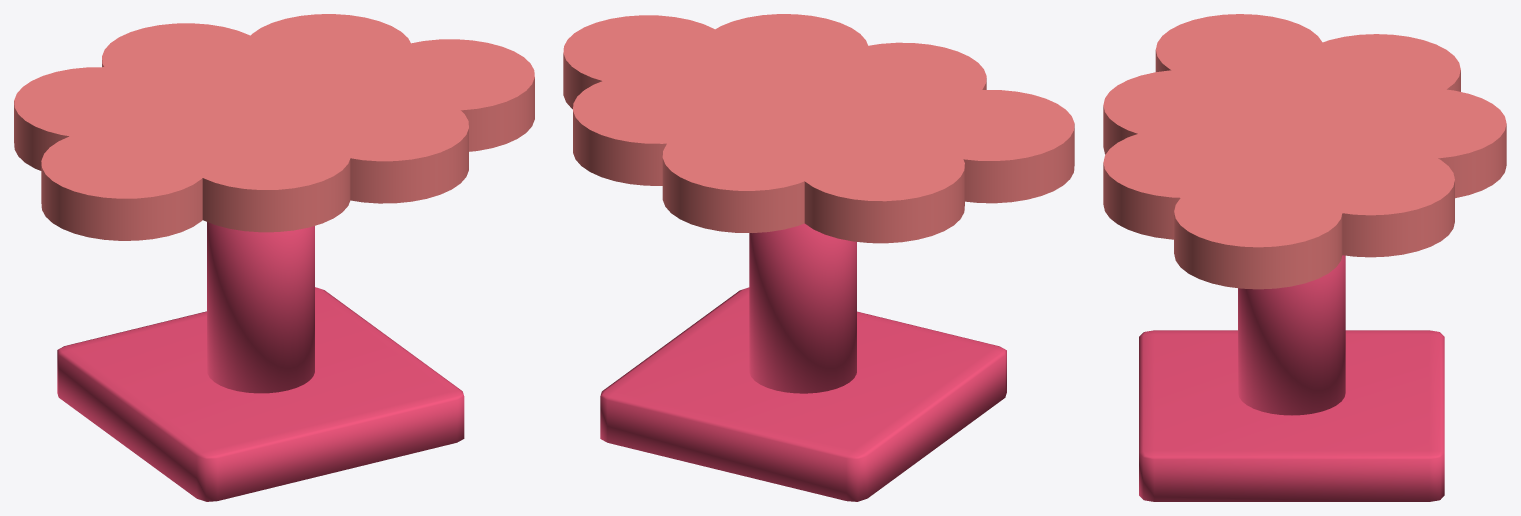
Rendered from stolik.gltf.
3 views of the same model, side by side, from view 1: azimuth 30°, elevation 25°; view 2: azimuth 150°, elevation 25°; view 3: azimuth 270°, elevation 25° (orthographic).
Parts seen in each view (by area): view 1: Circle.005, Cube; view 2: Circle.005, Cube; view 3: Circle.005, Cube.
Part boxes in pixels (x1,y1,x2,y2): Circle.005: (14, 14, 534, 240); Cube: (57, 222, 464, 501); Circle.005: (563, 14, 1074, 243); Cube: (600, 223, 1006, 501); Circle.005: (1103, 14, 1506, 289); Cube: (1139, 255, 1444, 501).
Bounding box in the file's own units: 2.16 × 1.35 × 1.58.
1 material, 1 textured.
